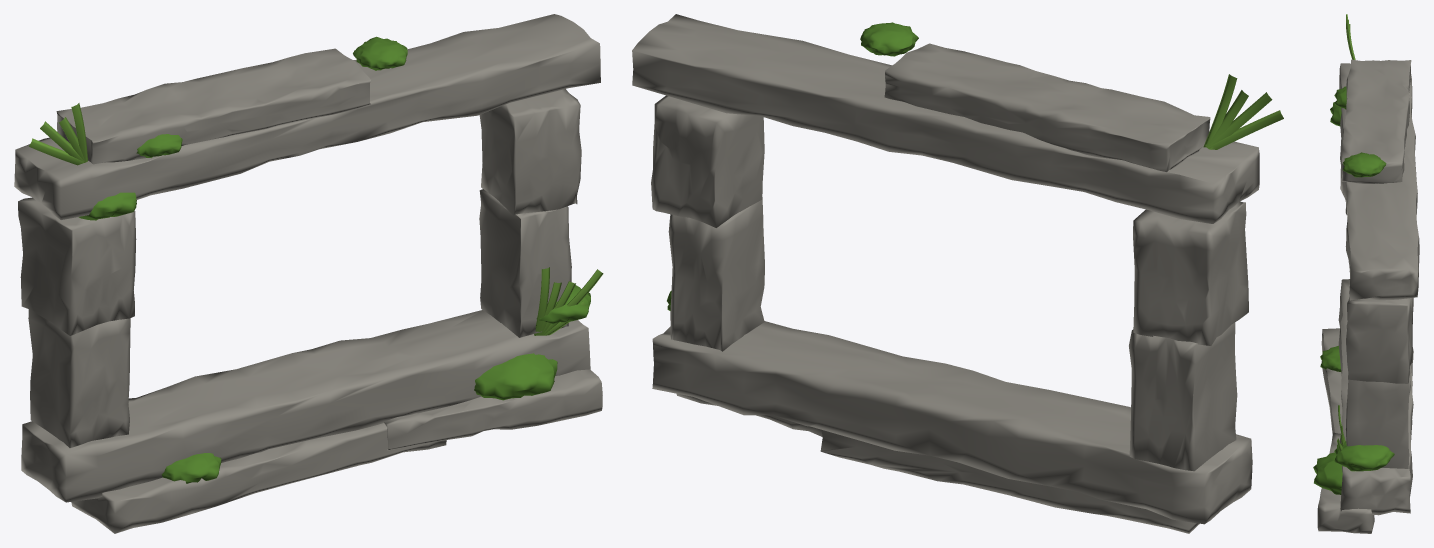
Rendered from moss.glb.
3 renders of one model, left to right at view 1: azimuth 30°, elevation 25°; view 2: azimuth 150°, elevation 25°; view 3: azimuth 270°, elevation 25°, orthographic. The views are drawn at different scales.
Visible parts, largest first — view 1: stones, moss, ferns; view 2: stones, ferns, moss; view 3: stones, moss, ferns.
Boxes of the visible parts, left/top/right/bottom form: stones: left=14, top=14, right=602, bottom=533; moss: left=78, top=36, right=590, bottom=483; ferns: left=29, top=103, right=603, bottom=335; stones: left=632, top=14, right=1259, bottom=533; ferns: left=1203, top=74, right=1283, bottom=149; moss: left=667, top=22, right=918, bottom=310; stones: left=1317, top=59, right=1419, bottom=533; moss: left=1313, top=86, right=1394, bottom=494; ferns: left=1337, top=14, right=1355, bottom=451.
Size of the model in its own units: 2.53 by 1.79 by 0.5262.
